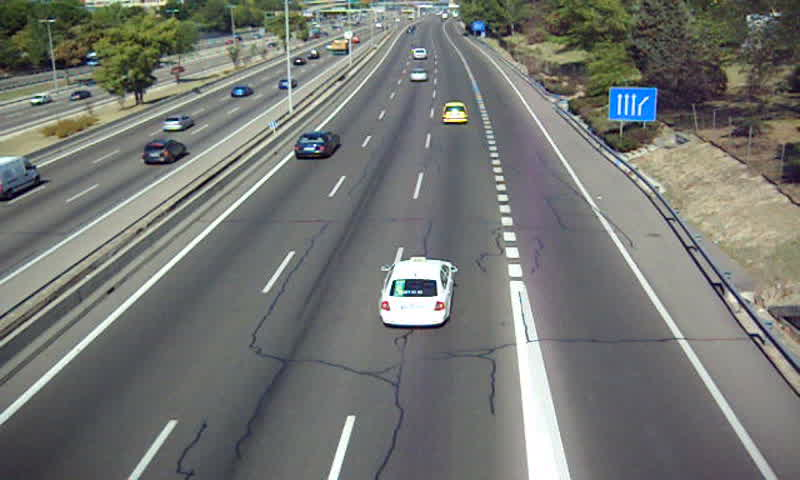car: (380, 259, 454, 326), (293, 133, 338, 158), (442, 102, 469, 126), (410, 66, 428, 81)
